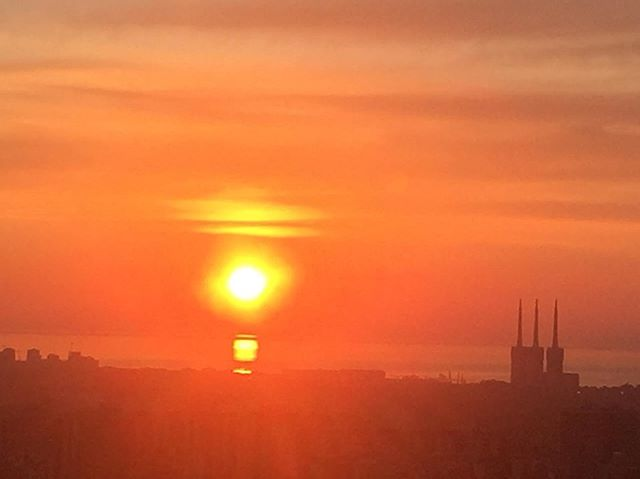building: (505, 291, 573, 409)
sky: (7, 1, 640, 346)
sun: (216, 257, 285, 307)
